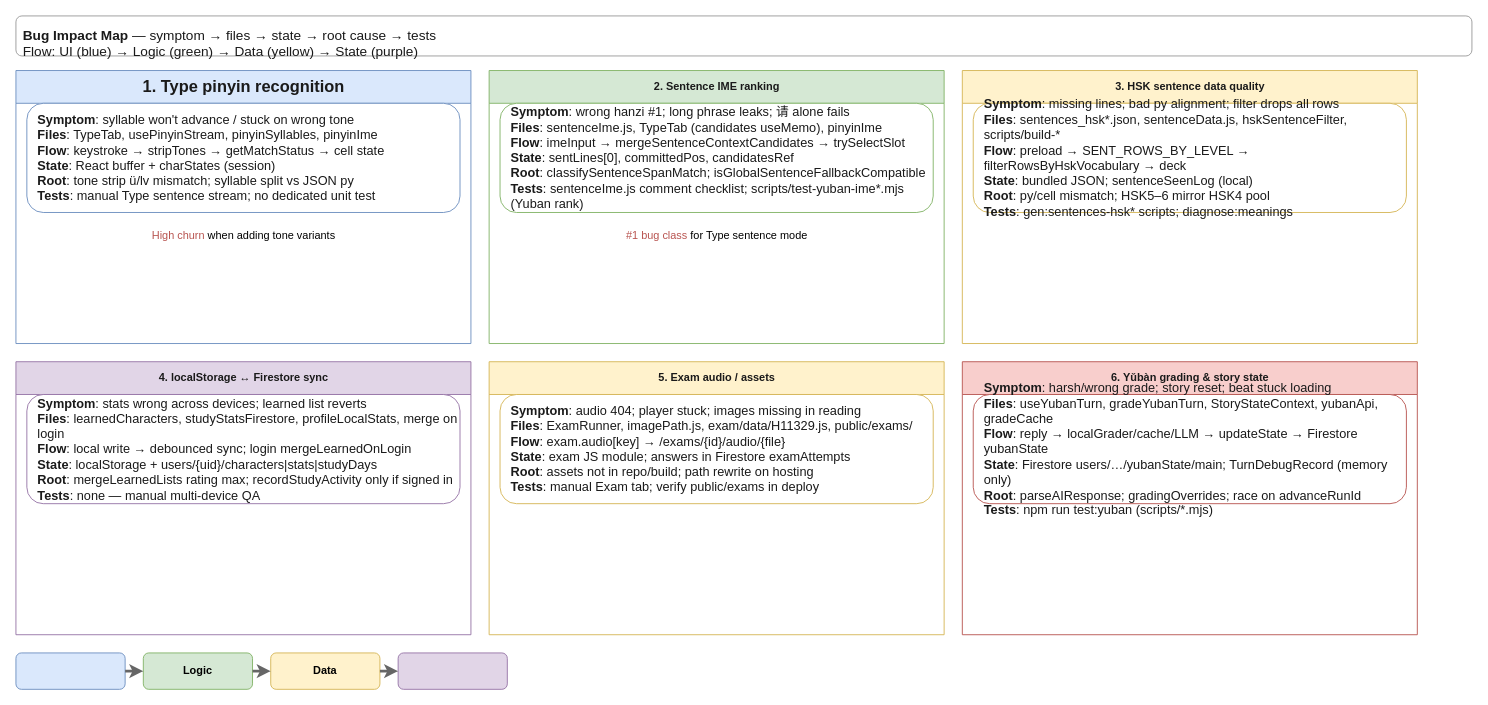
This 1488x705 diagram has some shape labels left out. The shapes that lost their labels are listed below. From the top down, each one's centre as x and y in pixels, then its label:
At point (70, 670): "UI".
At point (452, 670): "State".
